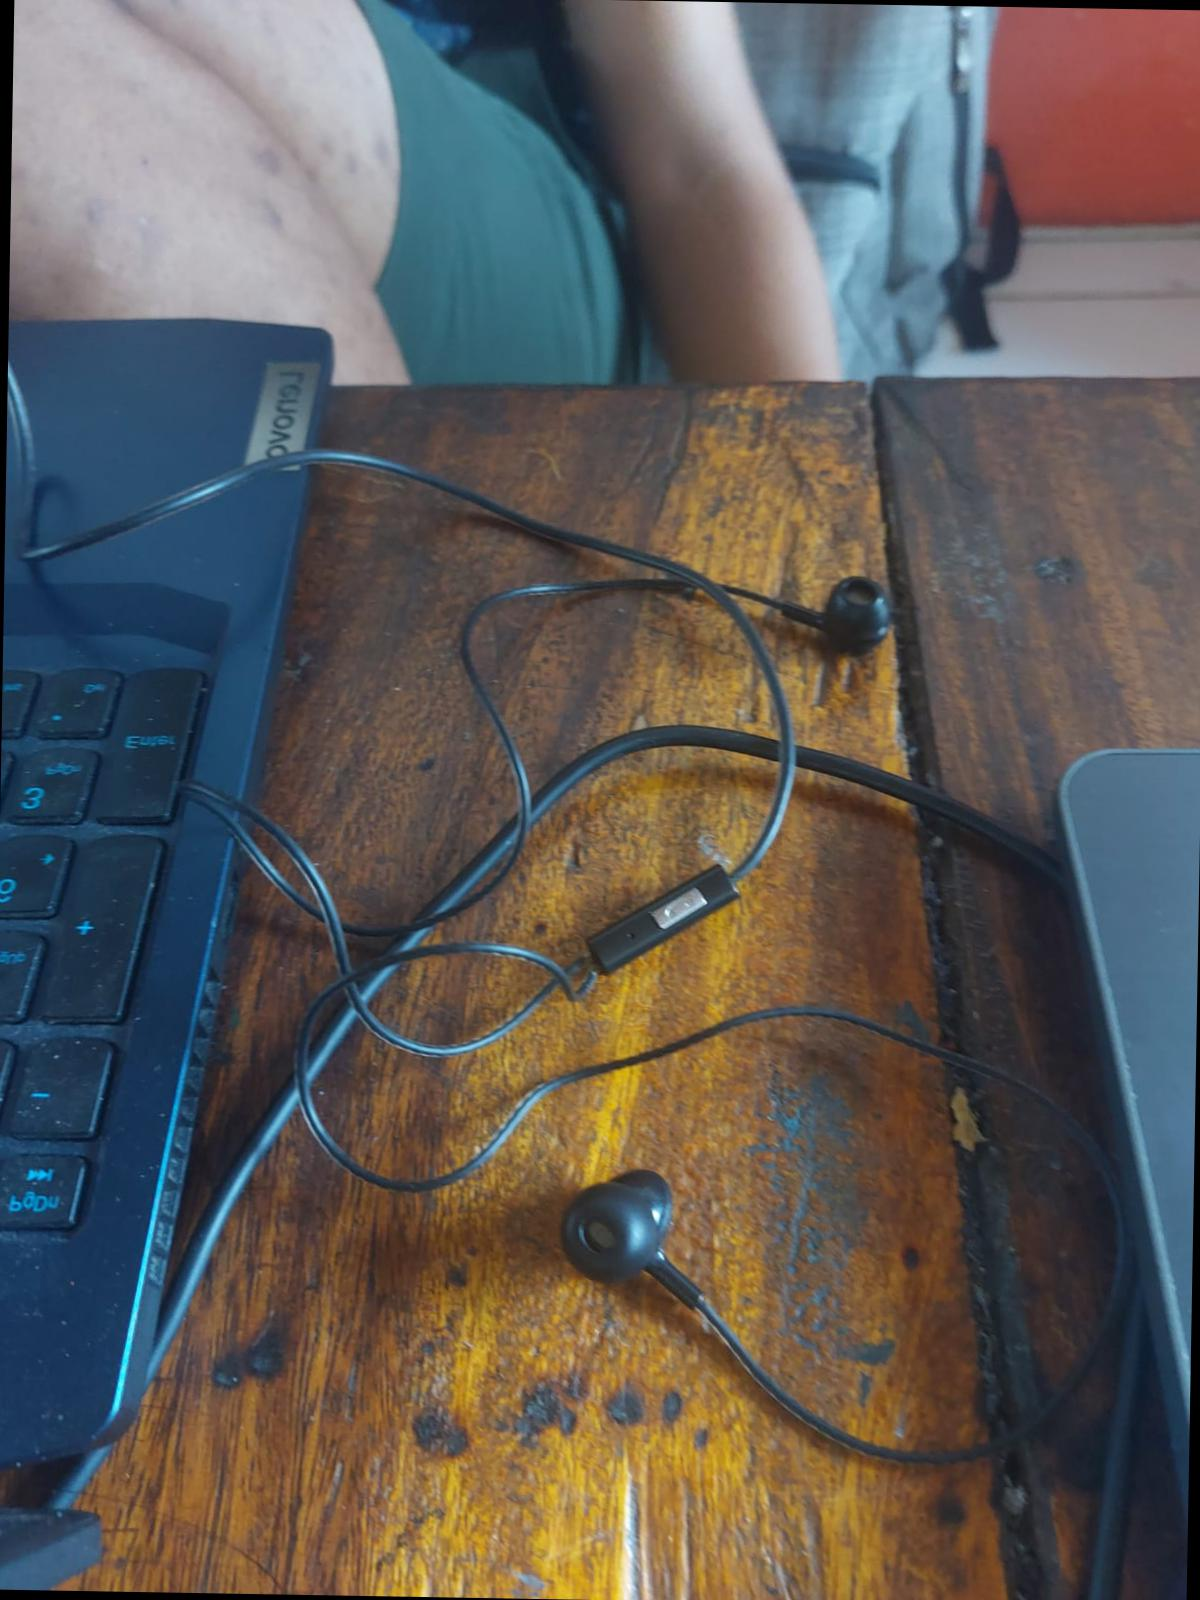Earphone: (545, 1148, 739, 1354), (795, 544, 930, 649)
